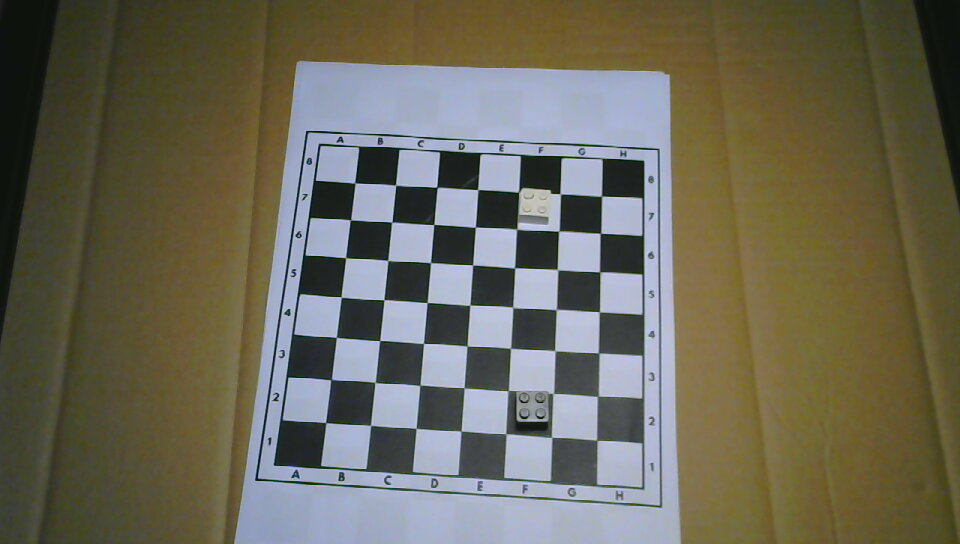bp: (513, 389, 551, 430)
wp: (518, 187, 551, 224)
